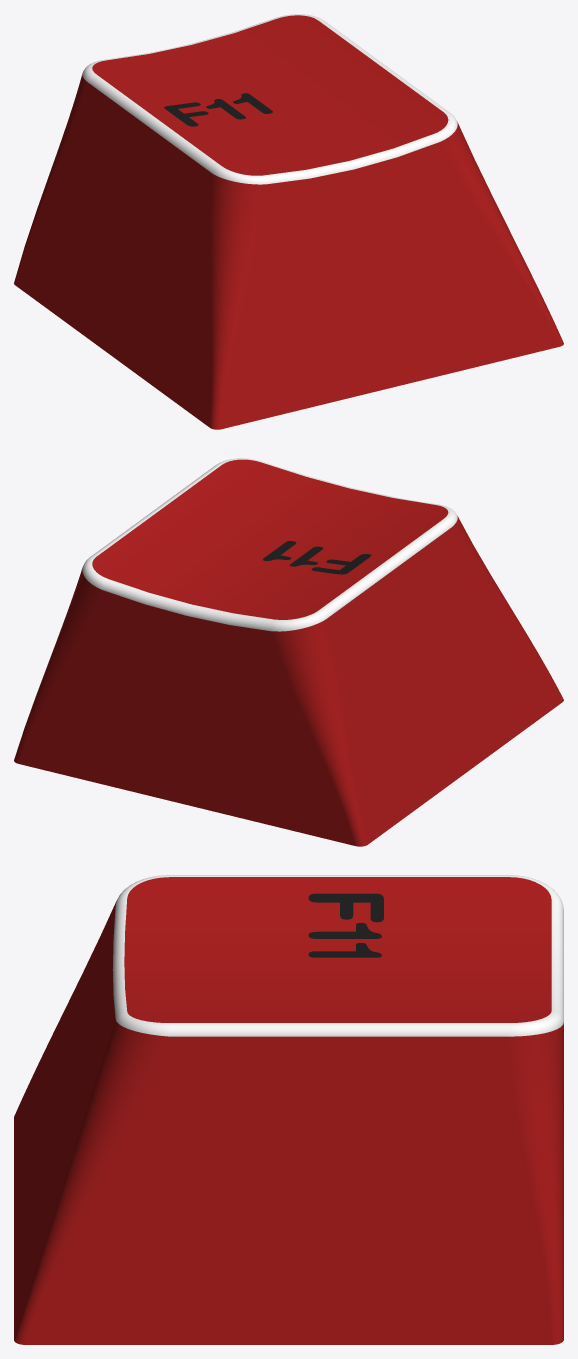
3 views of the same model, one above another, from view 1: azimuth 30°, elevation 25°; view 2: azimuth 150°, elevation 25°; view 3: azimuth 270°, elevation 25° (orthographic). The views are drawn at different scales.
Visible parts, largest first — view 1: Body1; view 2: Body1; view 3: Body1.
Boxes of the visible parts, x1,y1,x2,y2 form: Body1: (14, 14, 563, 429); Body1: (14, 458, 563, 846); Body1: (14, 875, 563, 1344).
Size of the model in its own units: 18 by 10.07 by 18.
